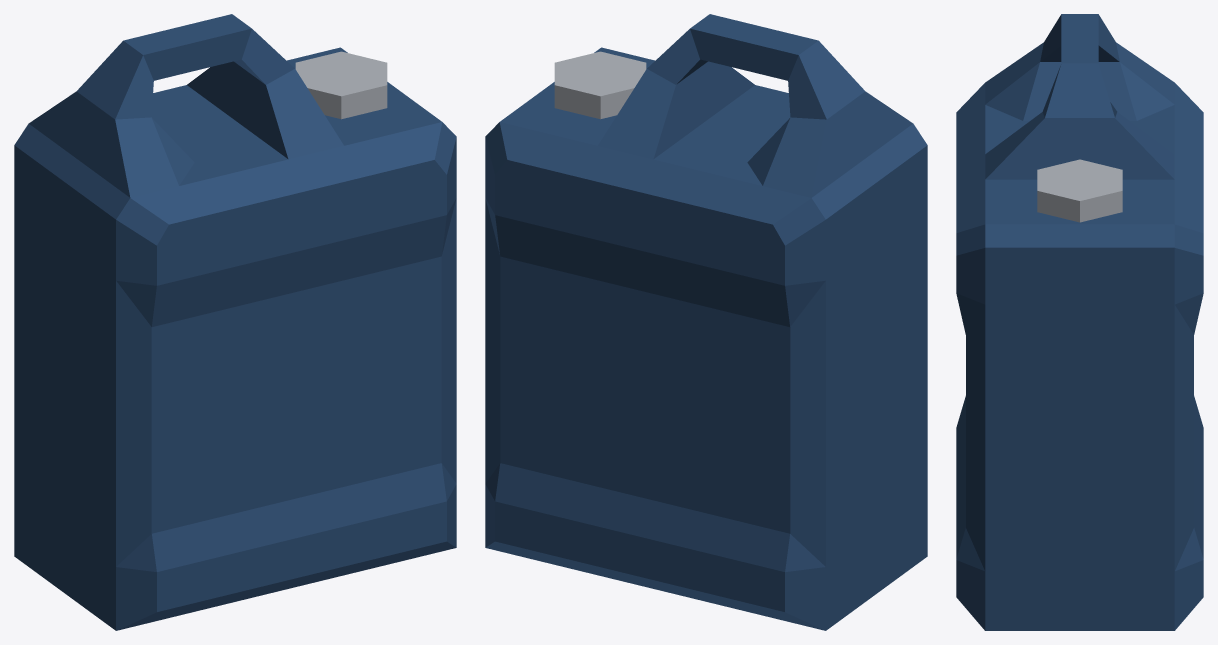
Rendered from SM_Prop_Container_03.fbx.
3 views of the same model, side by side, from view 1: azimuth 30°, elevation 25°; view 2: azimuth 150°, elevation 25°; view 3: azimuth 270°, elevation 25° (orthographic). The views are drawn at different scales.
Visible parts, largest first — view 1: SM_Prop_Container_03; view 2: SM_Prop_Container_03; view 3: SM_Prop_Container_03.
Part boxes in pixels (bbox=[...]): SM_Prop_Container_03: bbox=[14, 14, 456, 630]; SM_Prop_Container_03: bbox=[485, 14, 927, 630]; SM_Prop_Container_03: bbox=[956, 14, 1203, 630].
Bounding box in the file's own units: 21.85 × 32.45 × 14.76.
1 material, 1 textured.
